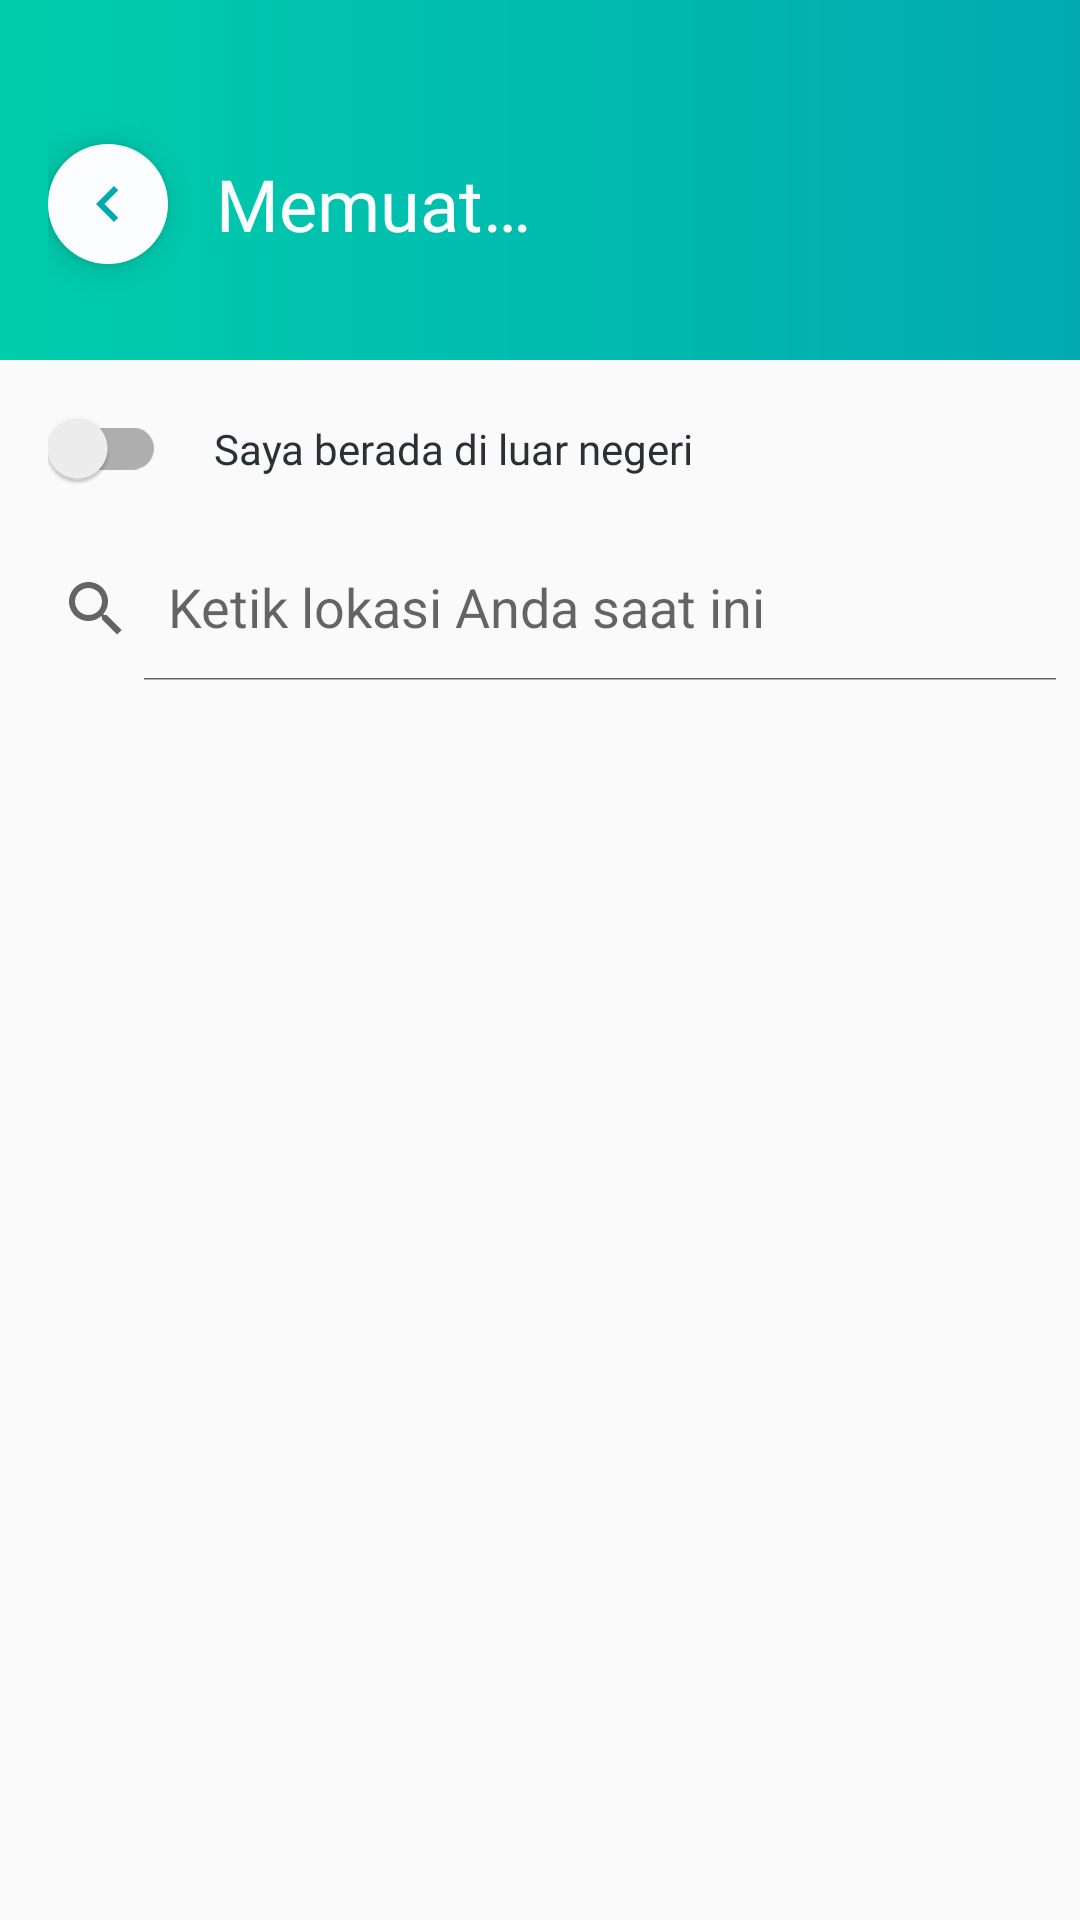

Screen size 1080 × 1920. Icon name, then its center in pixels as [x,y]:
chevron left cyan: [108,204]
